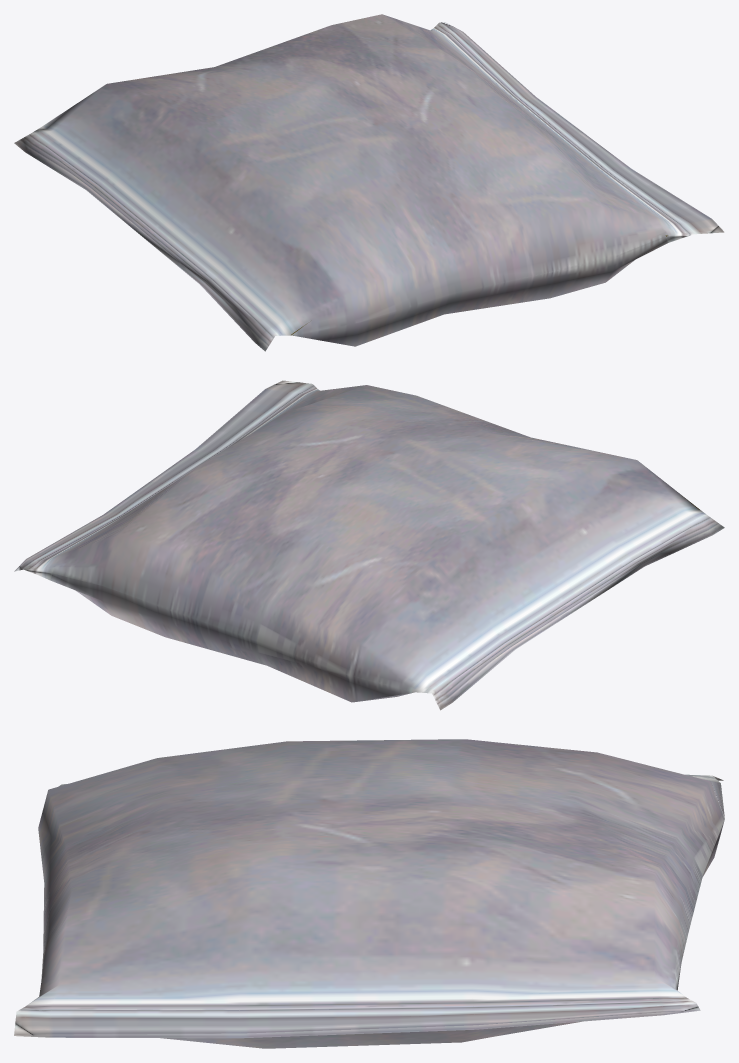
File: Small Weed Bag.fbx
3 renders of one model, top to bottom at view 1: azimuth 30°, elevation 25°; view 2: azimuth 150°, elevation 25°; view 3: azimuth 270°, elevation 25°, orthographic. The views are drawn at different scales.
Parts seen in each view (by area): view 1: small bag; view 2: small bag; view 3: small bag.
Boxes of the visible parts, left/top/right/bottom form: small bag: left=14, top=14, right=724, bottom=351; small bag: left=14, top=380, right=724, bottom=710; small bag: left=14, top=739, right=724, bottom=1048.
Bounding box in the file's own units: 63.43 × 21.19 × 68.9.
